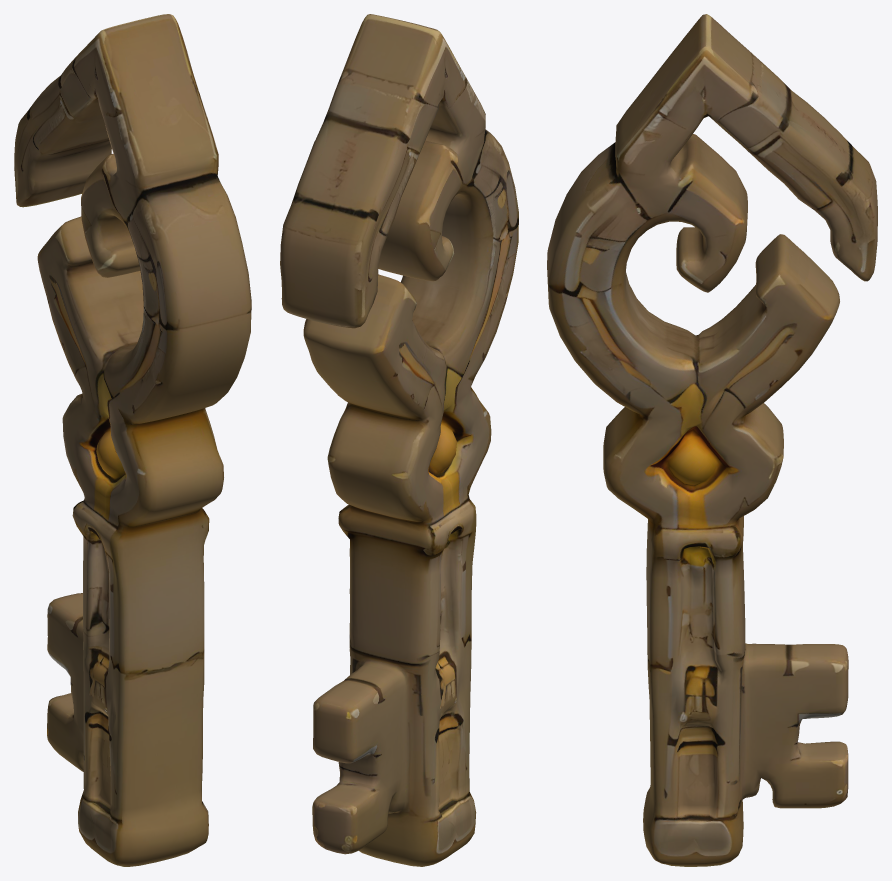
Rendered from steampunk+key+3d+model.obj.
3 renders of one model, left to right at view 1: azimuth 30°, elevation 25°; view 2: azimuth 150°, elevation 25°; view 3: azimuth 270°, elevation 25°, orthographic.
Parts seen in each view (by area): view 1: tripo_node_93e7f347; view 2: tripo_node_93e7f347; view 3: tripo_node_93e7f347.
Boxes of the visible parts, x1=… form: tripo_node_93e7f347: x1=14, y1=14, x2=251, y2=866; tripo_node_93e7f347: x1=280, y1=14, x2=518, y2=866; tripo_node_93e7f347: x1=547, y1=14, x2=877, y2=866.
Bounding box in the file's own units: 12.22 × 99.97 × 36.35.
Materials: 1 (1 with a texture image).
